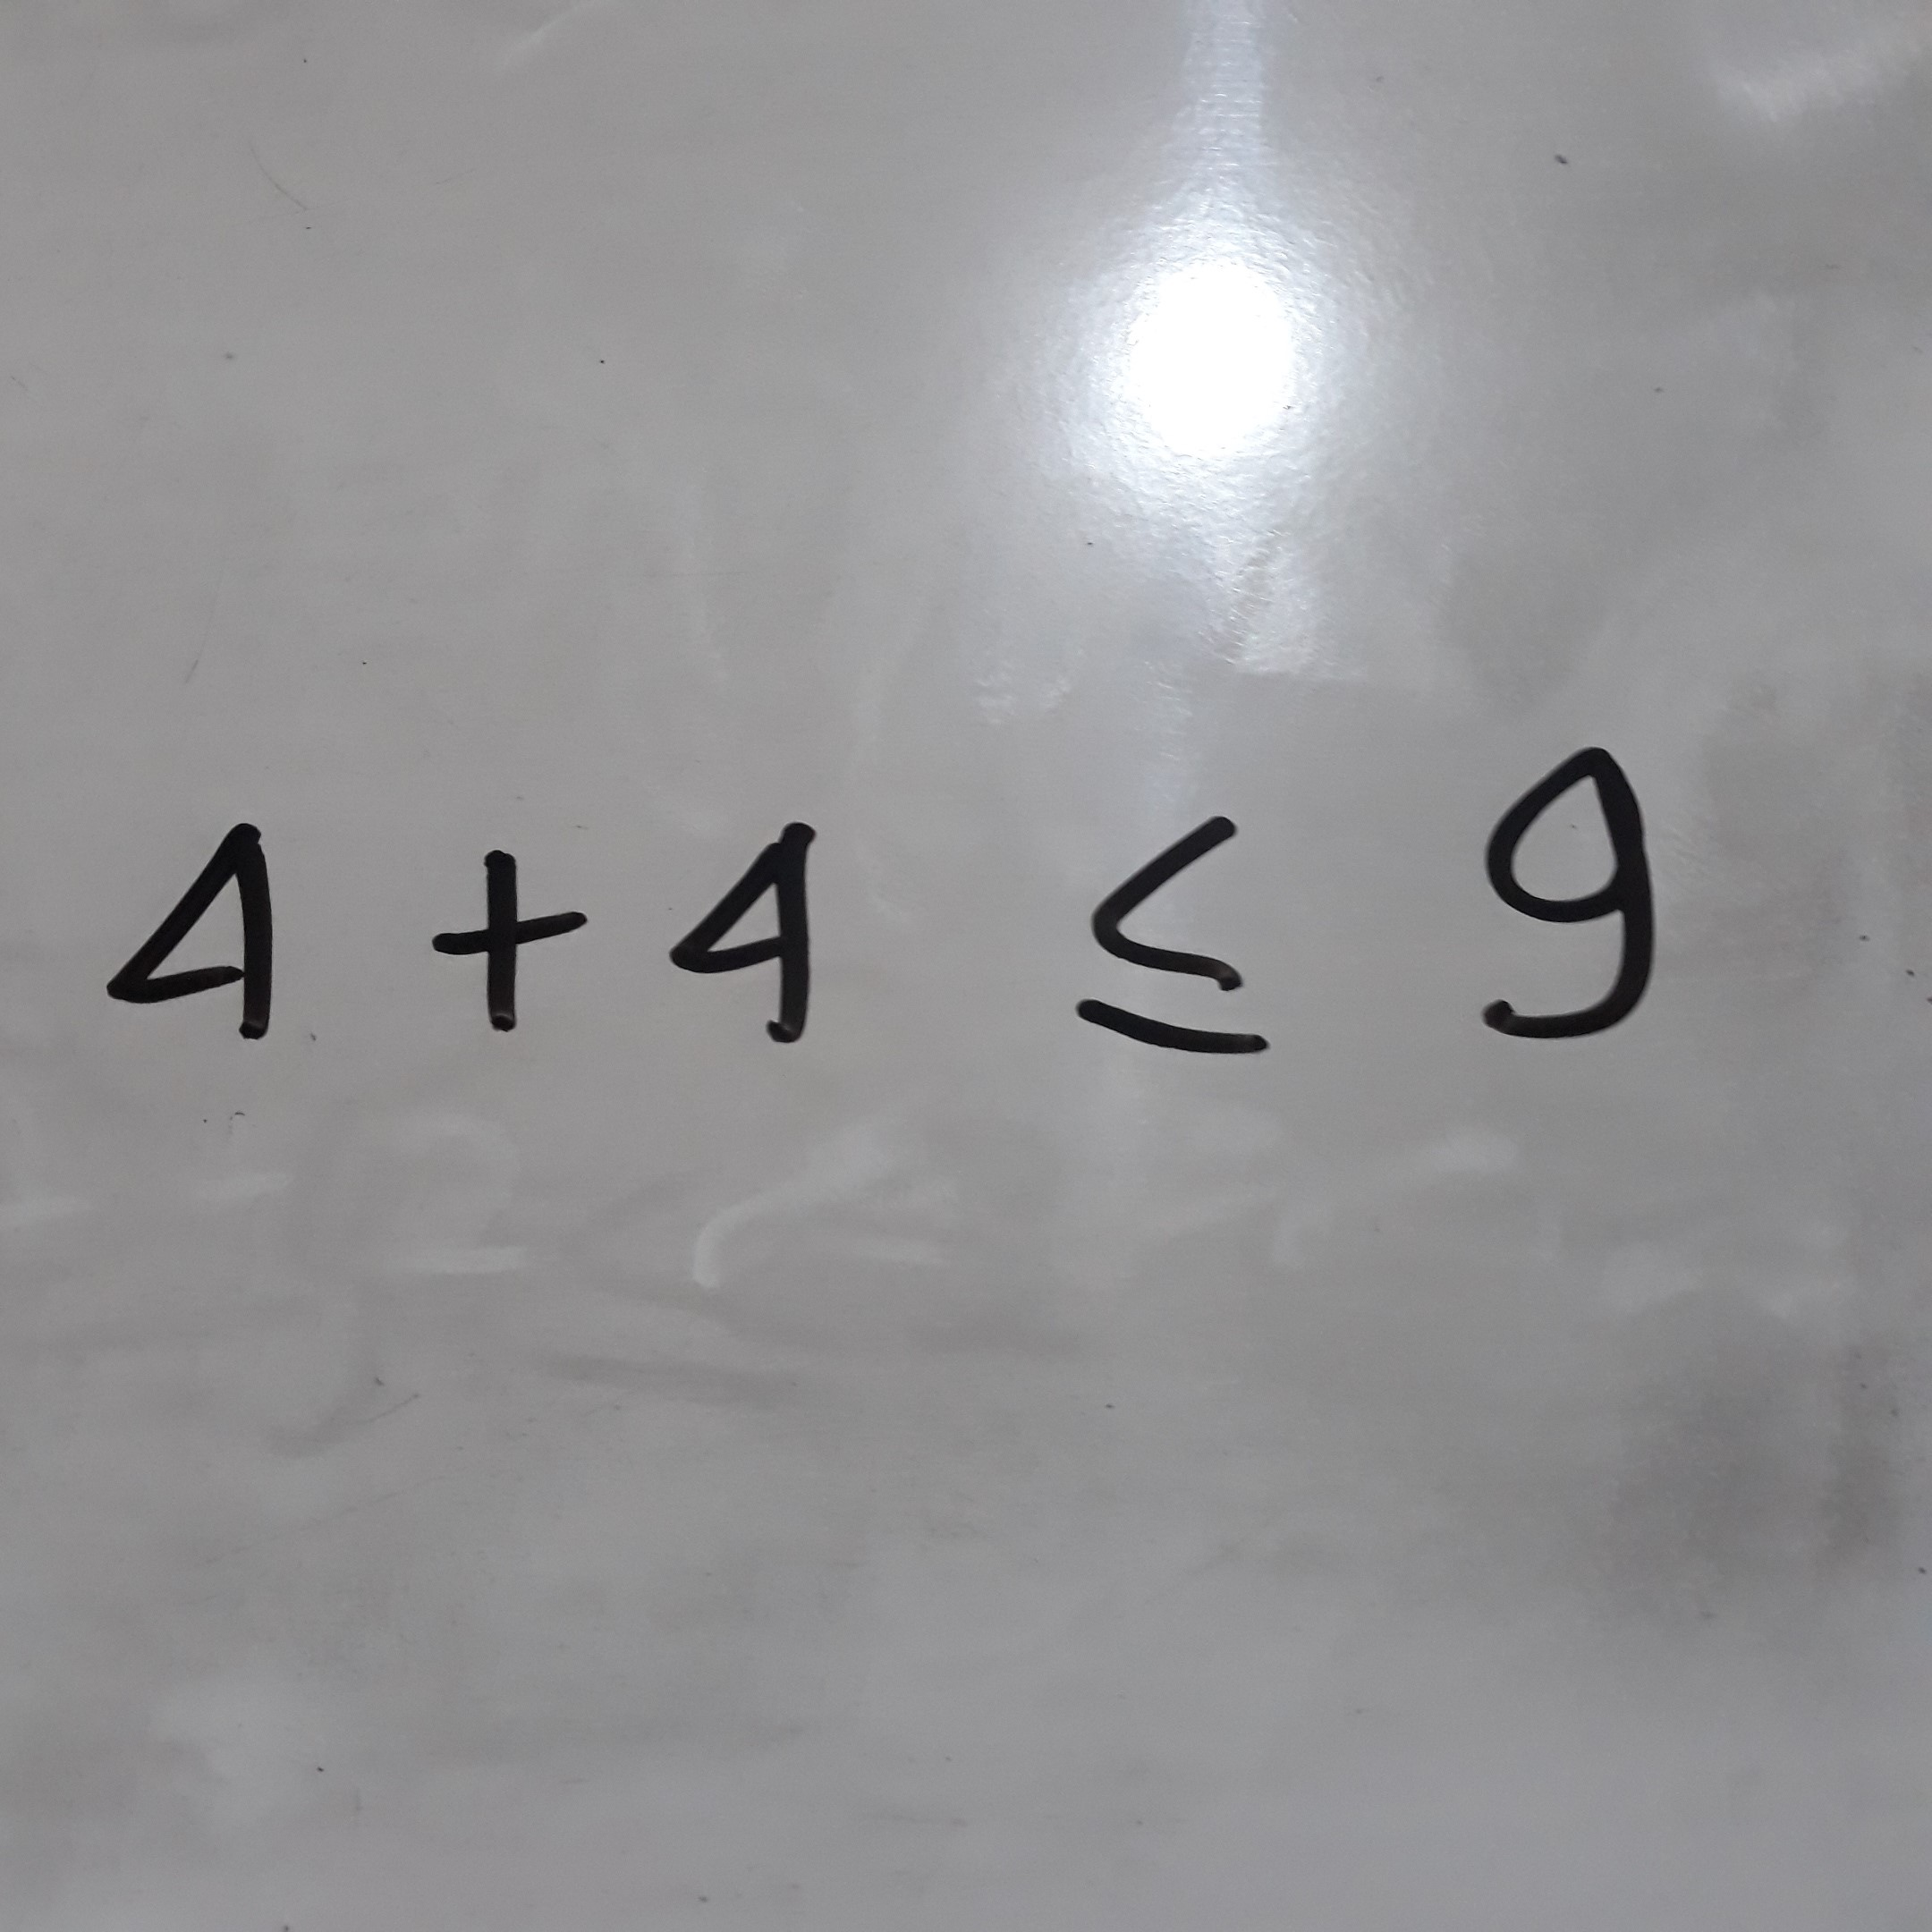lessthan-equal: (1074, 794, 1284, 1071)
num4: (86, 794, 297, 1059), (661, 807, 850, 1067)
num9: (1461, 741, 1675, 1052)
sum: (412, 837, 589, 1048)
